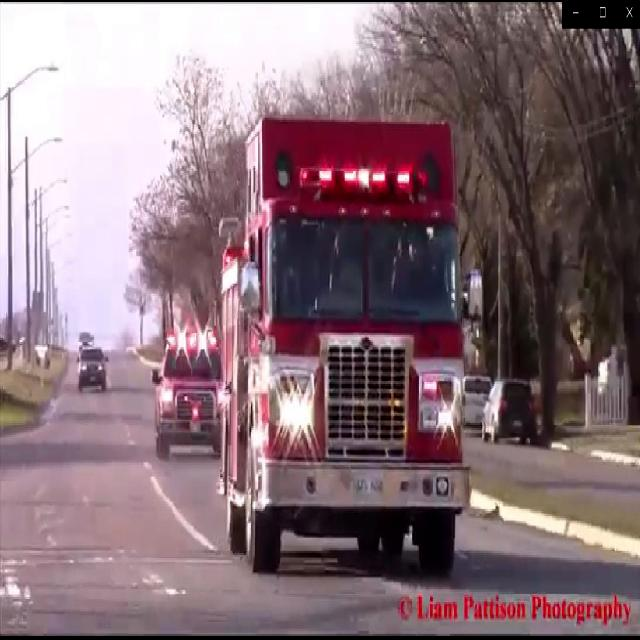emergency: (219, 100, 485, 587), (154, 318, 224, 446)
